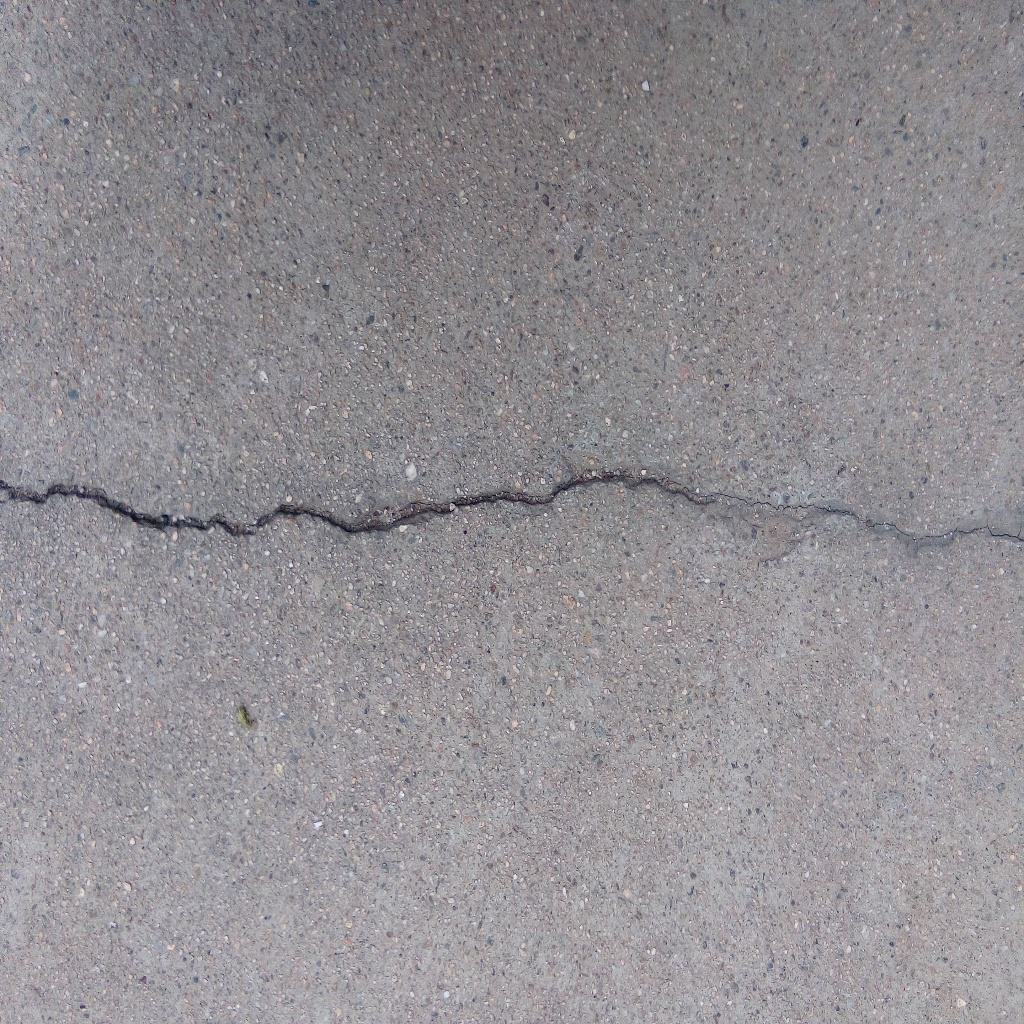Crack: (1, 467, 1024, 557)
